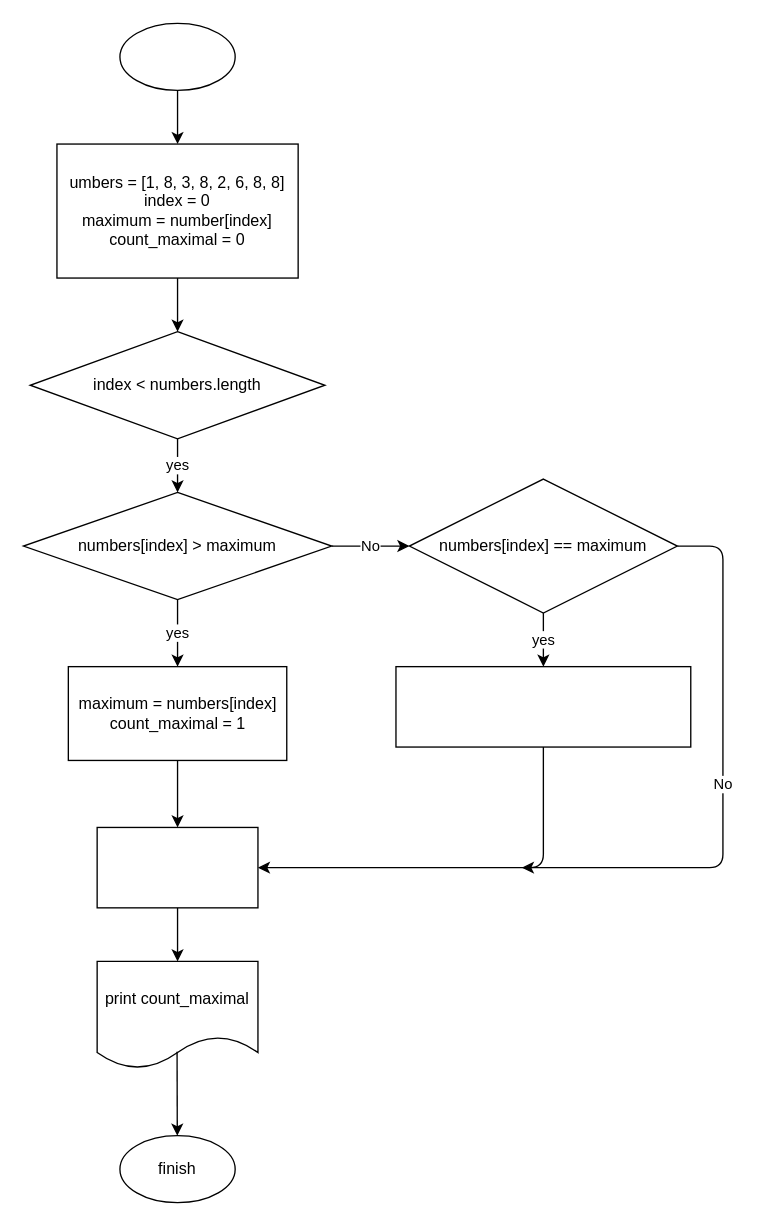
Some shapes in this 757 by 1226 pixel diagram are drawn without their labels. The box of each missing label's shape, as (x1, y1, x2, y2) in pixels:
count_maximal = count_maximal + 1: (395, 665, 691, 747)
index = index + 1: (96, 826, 258, 908)
start: (119, 22, 235, 90)
